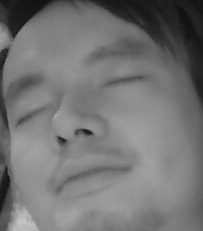blink: (97, 71, 142, 92), (15, 101, 51, 126)
mouth: (55, 154, 128, 199)
